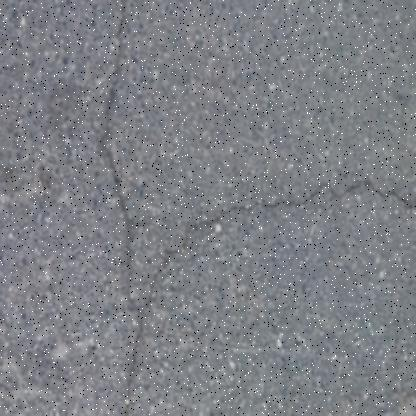Cracks: (114, 173, 416, 416), (99, 0, 137, 289)
